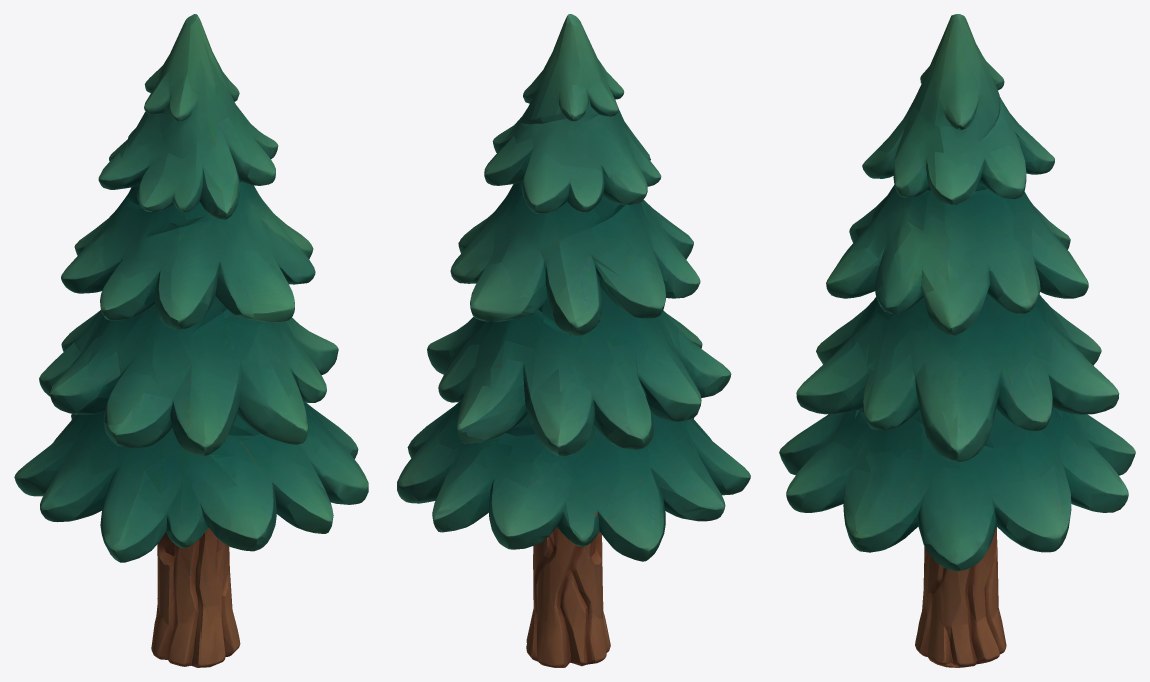
Rendered from tree_pine.glb.
3 renders of one model, left to right at view 1: azimuth 30°, elevation 25°; view 2: azimuth 150°, elevation 25°; view 3: azimuth 270°, elevation 25°, orthographic.
Visible parts, largest first — view 1: output_unwrapped; view 2: output_unwrapped; view 3: output_unwrapped.
Part boxes in pixels (left/top/right/bottom): output_unwrapped: left=14, top=14, right=368, bottom=667; output_unwrapped: left=397, top=14, right=750, bottom=667; output_unwrapped: left=779, top=14, right=1135, bottom=667.
Size of the model in its own units: 0.9851 by 1.9 by 0.964.
Materials: 1 (1 with a texture image).
